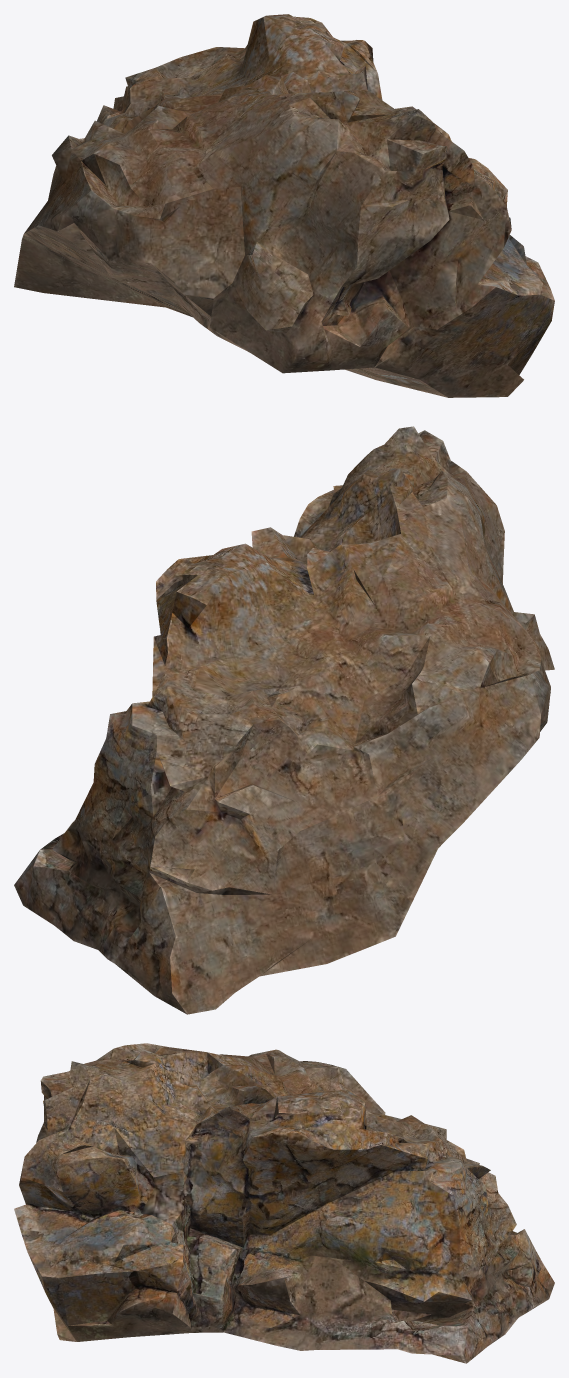
File: road_boulder.glb
3 renders of one model, top to bottom at view 1: azimuth 30°, elevation 25°; view 2: azimuth 150°, elevation 25°; view 3: azimuth 270°, elevation 25°, orthographic. The views are drawn at different scales.
Parts seen in each view (by area): view 1: road_boulder; view 2: road_boulder; view 3: road_boulder.
Part boxes in pixels (box(x1,y1,x2,y2)): road_boulder: box(14, 14, 554, 397); road_boulder: box(14, 426, 554, 1014); road_boulder: box(14, 1043, 554, 1363).
Bounding box in the file's own units: 1.27 × 0.994 × 1.82.
1 material, 1 textured.
